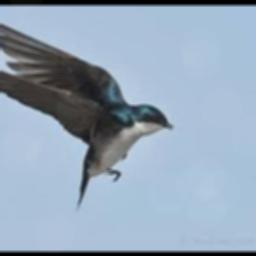Swallow: (0, 19, 171, 210)
